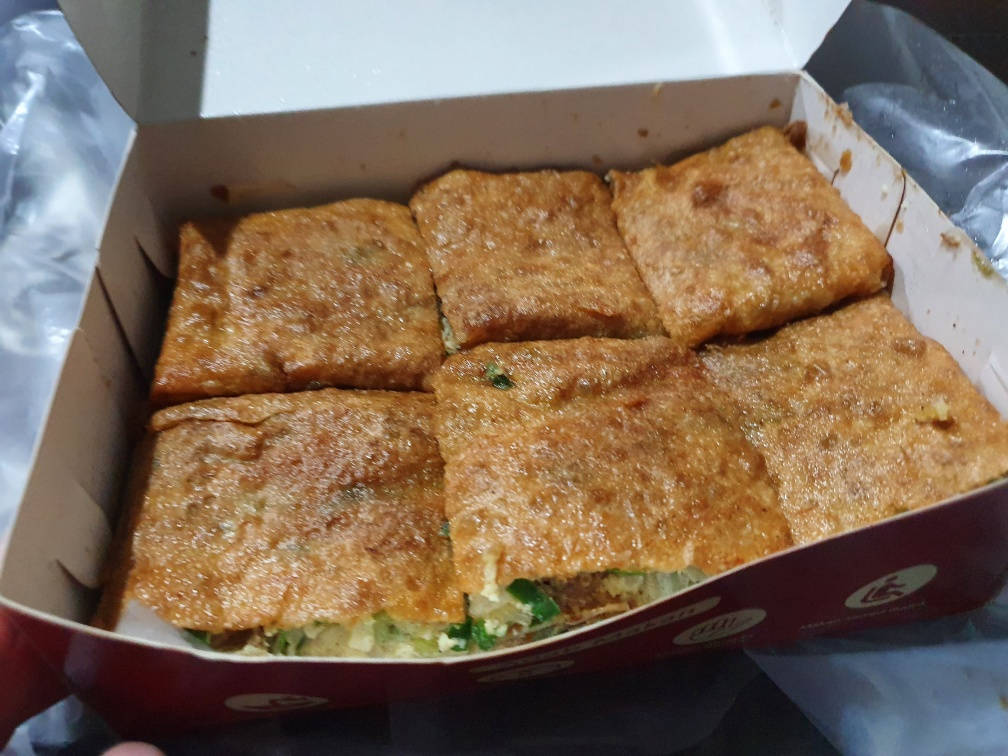martabak telor: (423, 336, 746, 608), (113, 389, 456, 644), (692, 321, 1004, 576), (158, 191, 439, 391), (607, 129, 872, 318), (402, 151, 657, 343)
